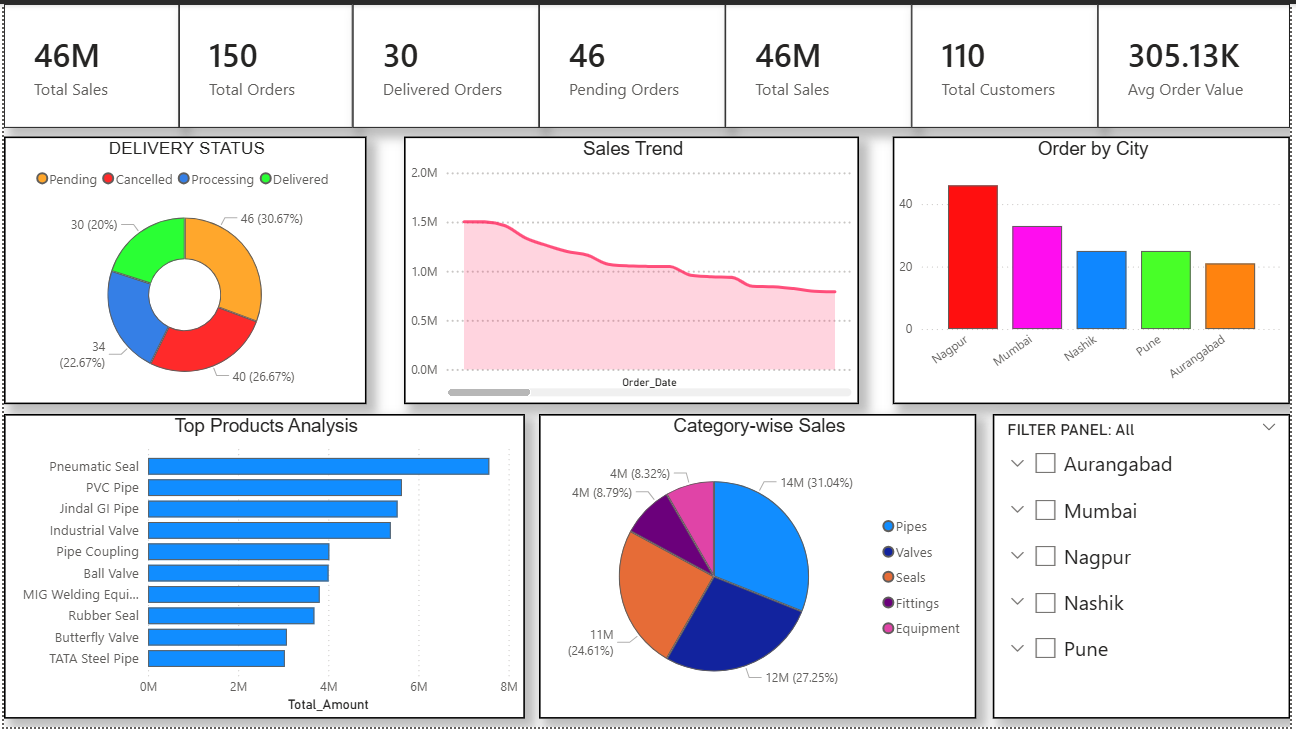

Layout of this report page (visuals, bound fields, positions):
{"tool":"powerbi","page":{"name":"KP Sales Analytics Dashboard","canvas":[1280,720],"ordinal":2},"visuals":[{"type":"cardVisual","fields":{"Data":["Orders.Total Sales"]},"box":[0,0,174.2,123.2],"z":0},{"type":"cardVisual","fields":{"Data":["Orders.Total Orders"]},"box":[174.2,0,172.9,123.2],"z":1000},{"type":"cardVisual","fields":{"Data":["Orders.Delivered Orders"]},"box":[347.1,0,185.3,123.2],"z":2000},{"type":"cardVisual","fields":{"Data":["Orders.Pending Orders"]},"box":[532.4,0,185.3,123.2],"z":3000},{"type":"cardVisual","fields":{"Data":["Orders.Total Sales"]},"box":[717.8,0,185.3,123.2],"z":4000},{"type":"cardVisual","fields":{"Data":["CountNonNull(Customers.Customer_Name)"]},"box":[903.1,0,185.3,123.2],"z":5000},{"type":"cardVisual","fields":{"Data":["Orders.Average Order Value"]},"box":[1088.5,0,191.6,123.2],"z":6000},{"type":"donutChart","title":"DELIVERY STATUS","fields":{"Category":["Orders.Status"],"Y":["CountNonNull(Orders.Order_ID)"]},"box":[0,131.9,360.7,266.2],"z":7000},{"type":"lineChart","title":"Sales Trend","fields":{"Category":["Orders.Order_Date"],"Y":["Sum(Orders.Total_Amount)"]},"box":[398.1,131.9,452.8,266.2],"z":8000},{"type":"columnChart","title":"Order by City","fields":{"Category":["Products.City"],"Y":["CountNonNull(Orders.Order_ID)"]},"box":[884.5,131.9,395.6,266.2],"z":9000},{"type":"barChart","title":"Top Products Analysis","fields":{"Category":["Products.Product_Name"],"Y":["Sum(Orders.Total_Amount)"]},"box":[0,408,518.7,303.5],"z":10000},{"type":"pieChart","title":"Category-wise Sales","fields":{"Category":["Products.Category"],"Y":["Sum(Orders.Total_Amount)"]},"box":[532.4,408,435.4,303.5],"z":11000},{"type":"slicer","fields":{"Values":["Products.City","Orders.Status","Products.Brand"]},"box":[984,408,296.1,303.5],"z":12000}]}

Visuals, with their boxes in screenshot pixels (x1, y1, x2, y2), scaled from the page's 1280x720 canvas onto the 1296x731 screenshot:
cardVisual - Orders.Total Sales: <box>0,0,176,125</box>
cardVisual - Orders.Total Orders: <box>176,0,351,125</box>
cardVisual - Orders.Delivered Orders: <box>351,0,539,125</box>
cardVisual - Orders.Pending Orders: <box>539,0,727,125</box>
cardVisual - Orders.Total Sales: <box>727,0,914,125</box>
cardVisual - CountNonNull(Customers.Customer_Name): <box>914,0,1102,125</box>
cardVisual - Orders.Average Order Value: <box>1102,0,1295,125</box>
"DELIVERY STATUS" donutChart: <box>0,134,365,404</box>
"Sales Trend" lineChart: <box>403,134,862,404</box>
"Order by City" columnChart: <box>896,134,1295,404</box>
"Top Products Analysis" barChart: <box>0,414,525,722</box>
"Category-wise Sales" pieChart: <box>539,414,980,722</box>
slicer - Products.City x Orders.Status: <box>996,414,1295,722</box>
